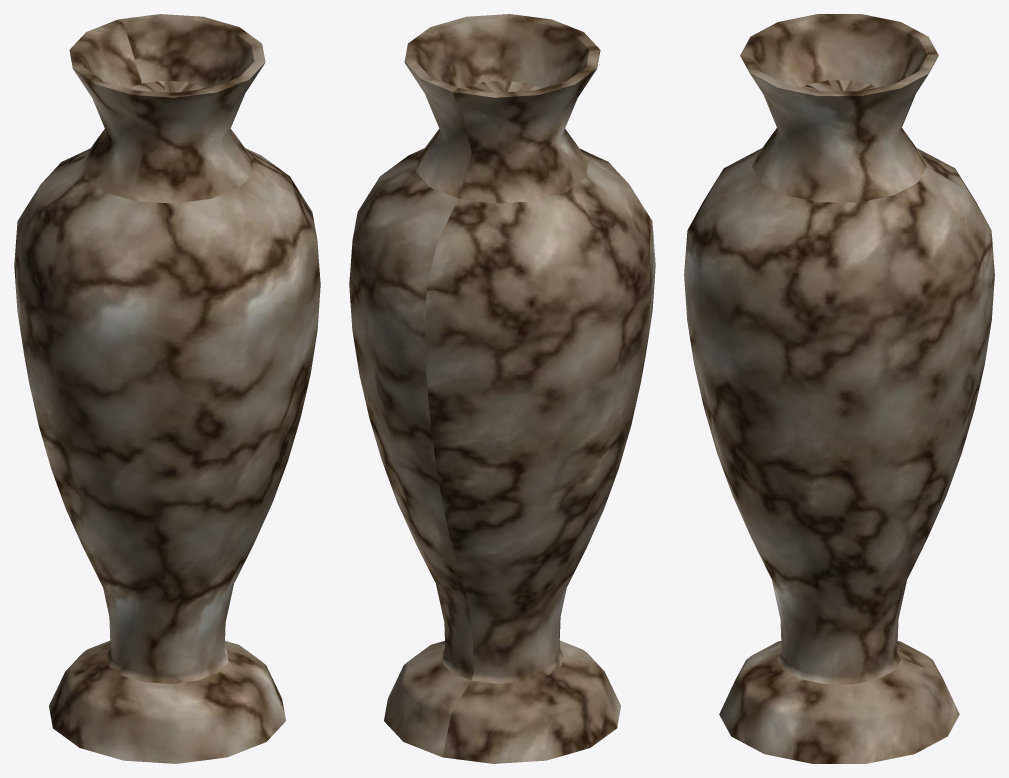
The model's file is Vase_05.glb.
3 renders of one model, left to right at view 1: azimuth 30°, elevation 25°; view 2: azimuth 150°, elevation 25°; view 3: azimuth 270°, elevation 25°, orthographic.
Parts seen in each view (by area): view 1: SM_Vase_05; view 2: SM_Vase_05; view 3: SM_Vase_05.
Boxes of the visible parts, x1=… form: SM_Vase_05: x1=14, y1=14, x2=320, y2=763; SM_Vase_05: x1=349, y1=14, x2=655, y2=763; SM_Vase_05: x1=684, y1=14, x2=994, y2=763.
Bounding box in the file's own units: 0.1121 × 0.2694 × 0.115.
Materials: 1 (1 with a texture image).
